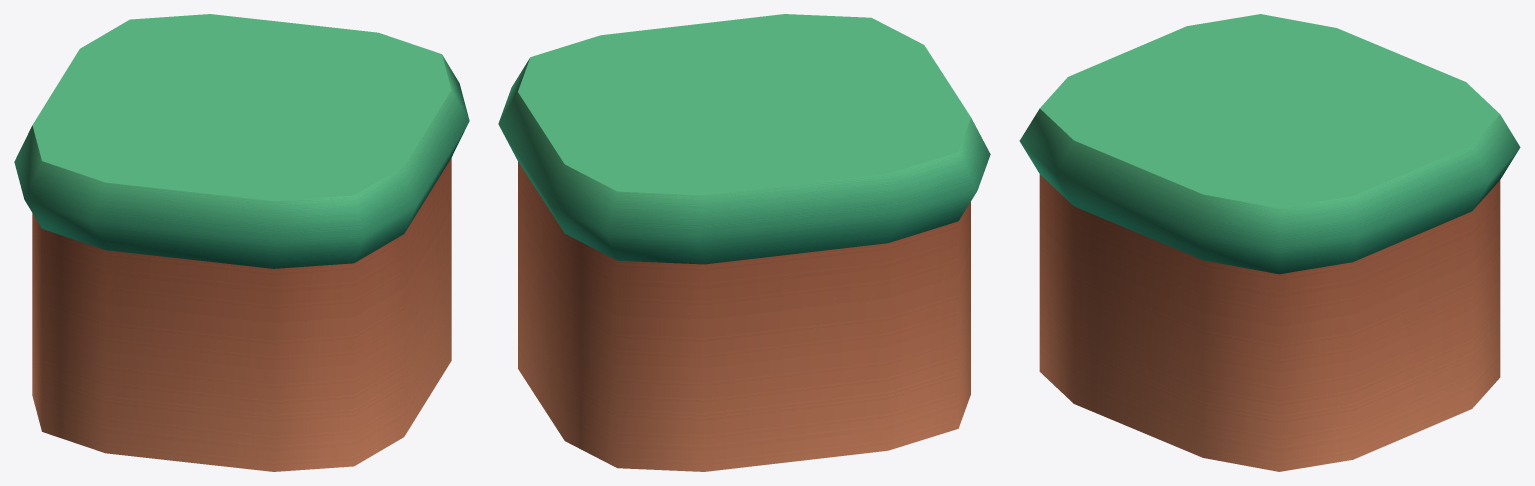
Rendered from block-grass.002_lev2.glb.
The picture shows the model from 3 angles, left to right: view 1: azimuth 30°, elevation 25°; view 2: azimuth 150°, elevation 25°; view 3: azimuth 270°, elevation 25°; orthographic projection. The views are drawn at different scales.
Visible parts, largest first — view 1: block-grass.002_lev2; view 2: block-grass.002_lev2; view 3: block-grass.002_lev2.
Boxes of the visible parts, left/top/right/bottom form: block-grass.002_lev2: left=14, top=14, right=469, bottom=471; block-grass.002_lev2: left=498, top=14, right=990, bottom=471; block-grass.002_lev2: left=1019, top=14, right=1520, bottom=471.
Size of the model in its own units: 7.52 by 4.37 by 7.52.
Materials: 1 (1 with a texture image).
